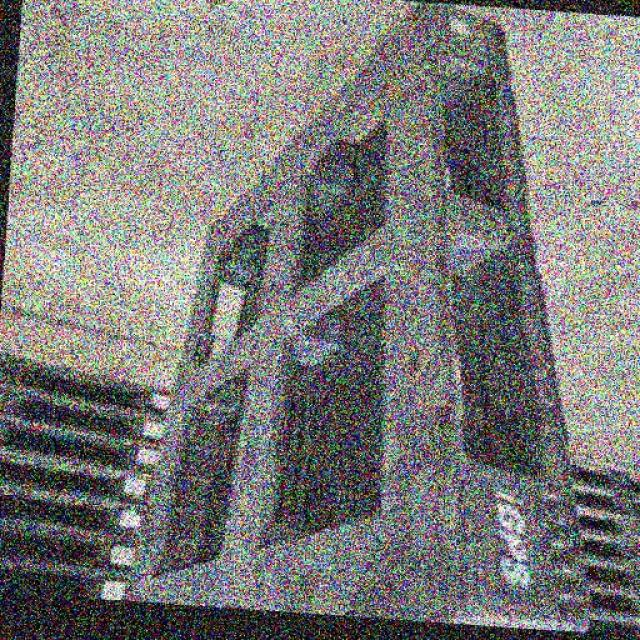igps: (119, 0, 599, 640), (0, 338, 181, 608), (562, 439, 640, 640)
